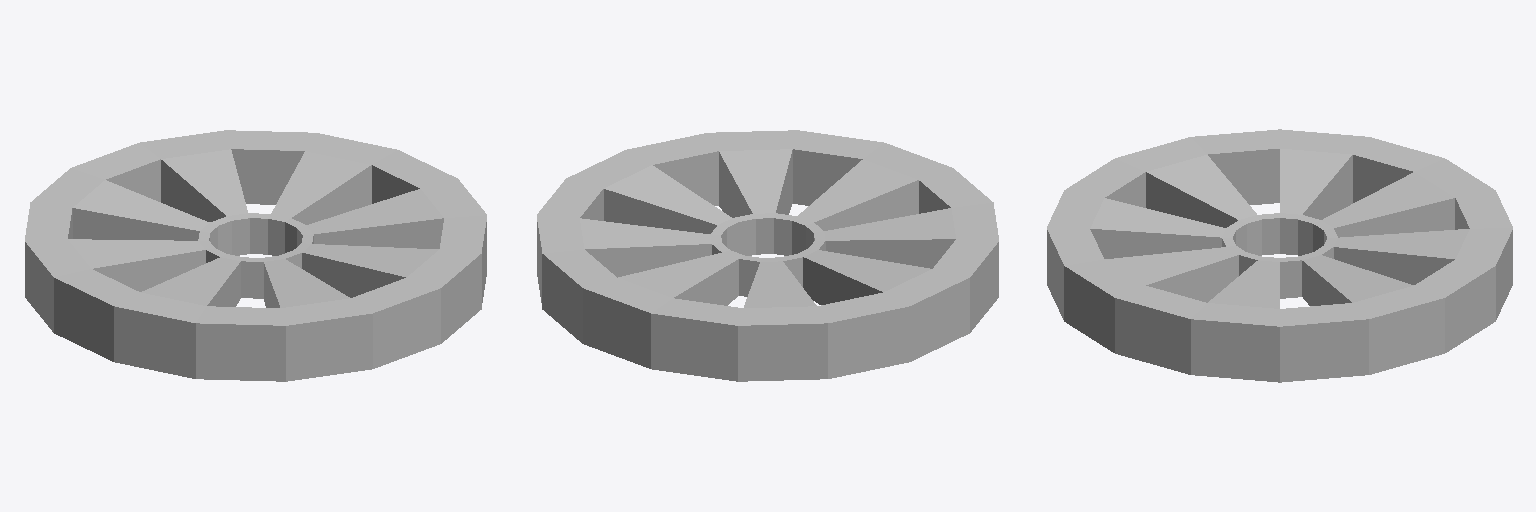
File: wheel.obj
The picture shows the model from 3 angles: view 1: azimuth 30°, elevation 25°; view 2: azimuth 150°, elevation 25°; view 3: azimuth 270°, elevation 25°; orthographic projection.
Size of the model in its own units: 9.69 by 1.28 by 9.69.